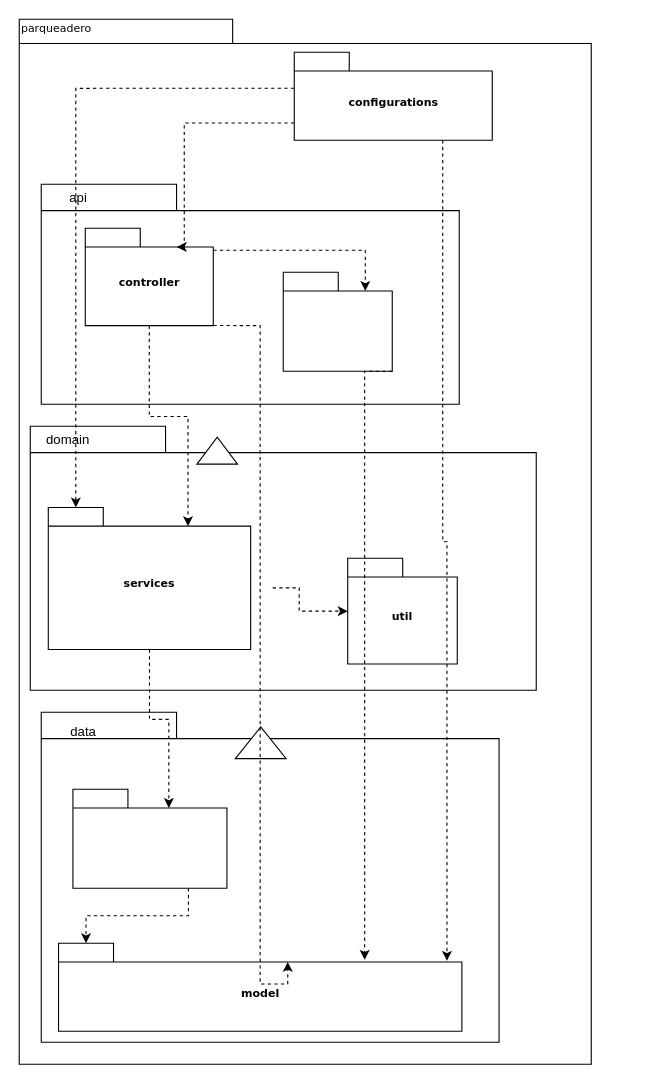
This 655x1084 diagram has some shape labels left out. Here are the shapes that lost their labels. From the top down, the box of each, then its label:
(282, 271, 392, 371): dtos
(72, 788, 227, 888): daos
